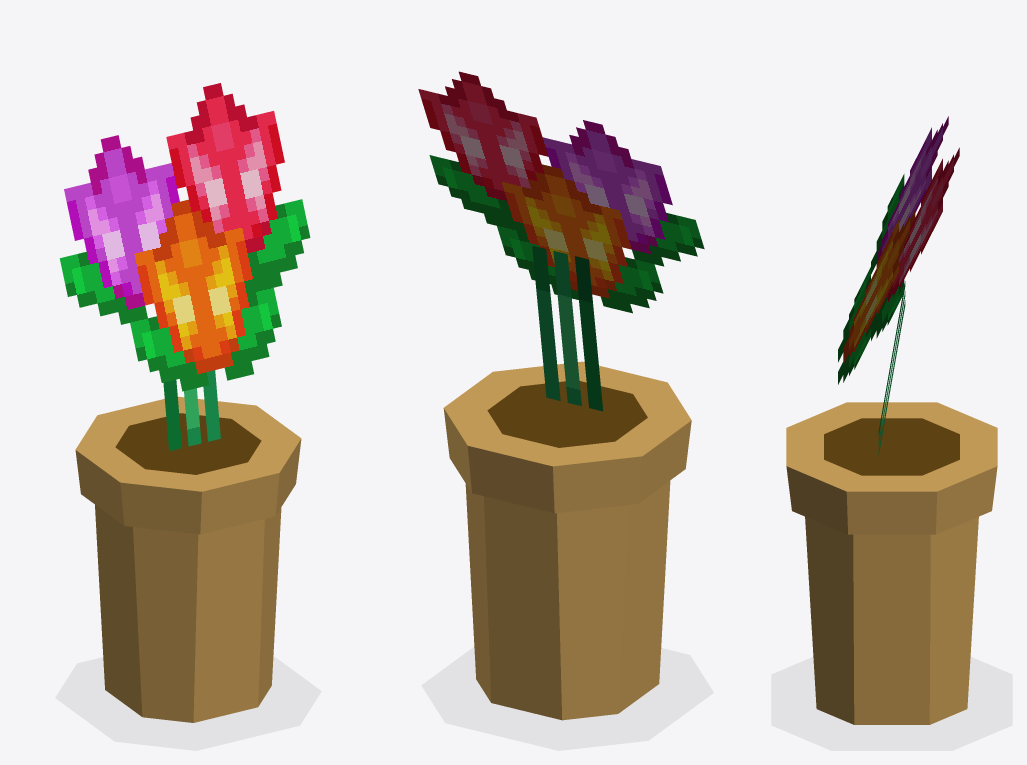
File: modelo.obj
The picture shows the model from 3 angles, left to right: view 1: azimuth 30°, elevation 25°; view 2: azimuth 150°, elevation 25°; view 3: azimuth 270°, elevation 25°; orthographic projection. The views are drawn at different scales.
Visible parts, largest first — view 1: polygon4, polygon0, polygon2, polygon1; view 2: polygon4, polygon0, polygon2, polygon1; view 3: polygon4, polygon0, polygon2, polygon1.
Part boxes in pixels (bbox=[...]): polygon4: bbox=[75, 396, 301, 722]; polygon0: bbox=[59, 83, 310, 391]; polygon2: bbox=[115, 413, 261, 474]; polygon1: bbox=[163, 370, 220, 451]; polygon4: bbox=[443, 361, 691, 720]; polygon0: bbox=[418, 71, 704, 313]; polygon2: bbox=[487, 381, 647, 447]; polygon1: bbox=[532, 245, 603, 411]; polygon4: bbox=[786, 402, 997, 724]; polygon0: bbox=[838, 116, 959, 384]; polygon2: bbox=[824, 418, 959, 475]; polygon1: bbox=[878, 281, 905, 455].
Bounding box in the file's own units: 20 × 45.5 × 16.
Materials: 5 (5 with a texture image).
